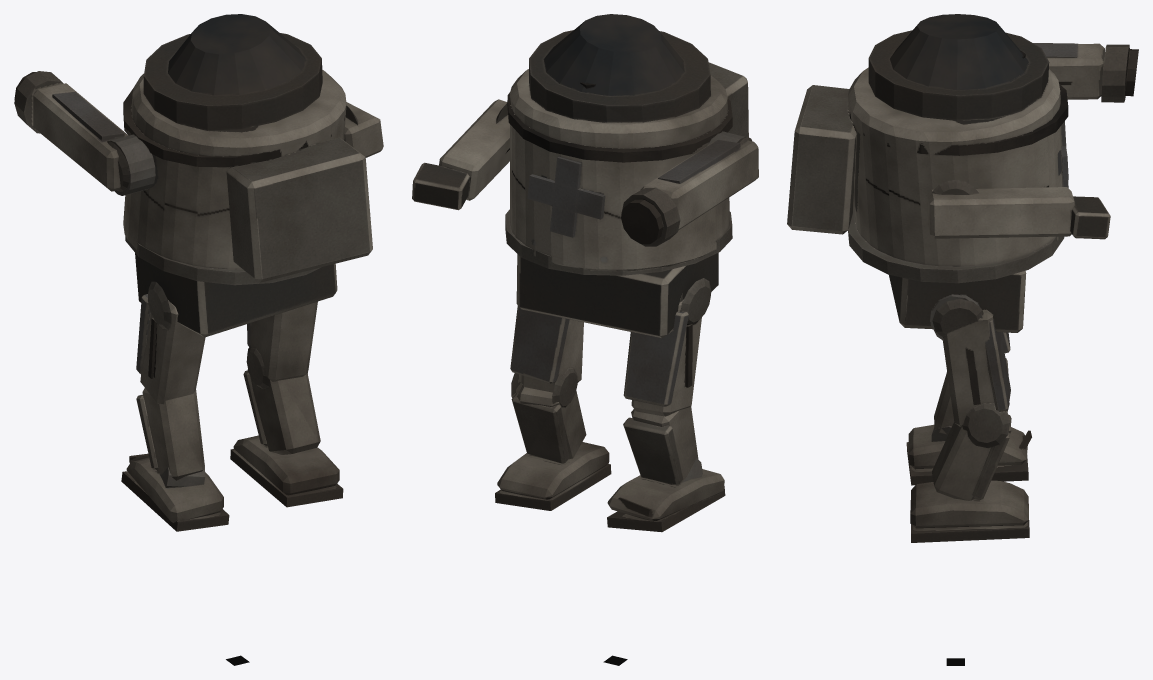
File: ord_lazarus_wreck.fbx
3 views of the same model, side by side, from view 1: azimuth 30°, elevation 25°; view 2: azimuth 150°, elevation 25°; view 3: azimuth 270°, elevation 25° (orthographic).
Parts seen in each view (by area): view 1: base_bar, nano_bar, thighL_bar, shinL_bar, footR_bar, shinR_bar, thighR_bar, footL_bar; view 2: base_bar, nano_bar, thighL_bar, thighR_bar, footR_bar, footL_bar, shinL_bar, shinR_bar; view 3: base_bar, thighR_bar, footR_bar, nano_bar, shinR_bar, footL_bar, shinL_bar.
Part boxes in pixels (left/top/right/bottom): base_bar: left=123, top=14, right=383, bottom=337; nano_bar: left=14, top=71, right=155, bottom=195; thighL_bar: left=136, top=281, right=205, bottom=404; shinL_bar: left=136, top=388, right=205, bottom=487; footR_bar: left=230, top=435, right=343, bottom=507; shinR_bar: left=243, top=369, right=320, bottom=454; thighR_bar: left=246, top=301, right=317, bottom=389; footL_bar: left=121, top=453, right=229, bottom=531; base_bar: left=412, top=14, right=748, bottom=338; nano_bar: left=621, top=131, right=758, bottom=246; thighL_bar: left=623, top=278, right=711, bottom=416; thighR_bar: left=510, top=305, right=583, bottom=407; footR_bar: left=495, top=442, right=611, bottom=510; footL_bar: left=607, top=469, right=725, bottom=532; shinL_bar: left=623, top=406, right=702, bottom=484; shinR_bar: left=511, top=385, right=586, bottom=463; base_bar: left=787, top=14, right=1110, bottom=332; thighR_bar: left=930, top=294, right=1010, bottom=448; footR_bar: left=910, top=480, right=1029, bottom=542; nano_bar: left=1033, top=43, right=1138, bottom=102; shinR_bar: left=932, top=411, right=1011, bottom=500; footL_bar: left=906, top=424, right=1031, bottom=485; shinL_bar: left=931, top=358, right=1008, bottom=441.
Size of the model in its own units: 353 by 775 by 388.
Materials: 2 (2 with a texture image).
